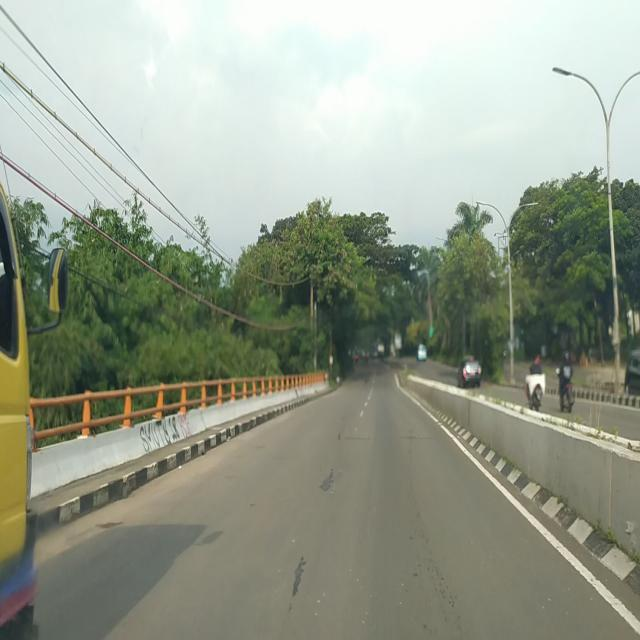Sewer Cover: (401, 435, 438, 442), (337, 436, 372, 442)
